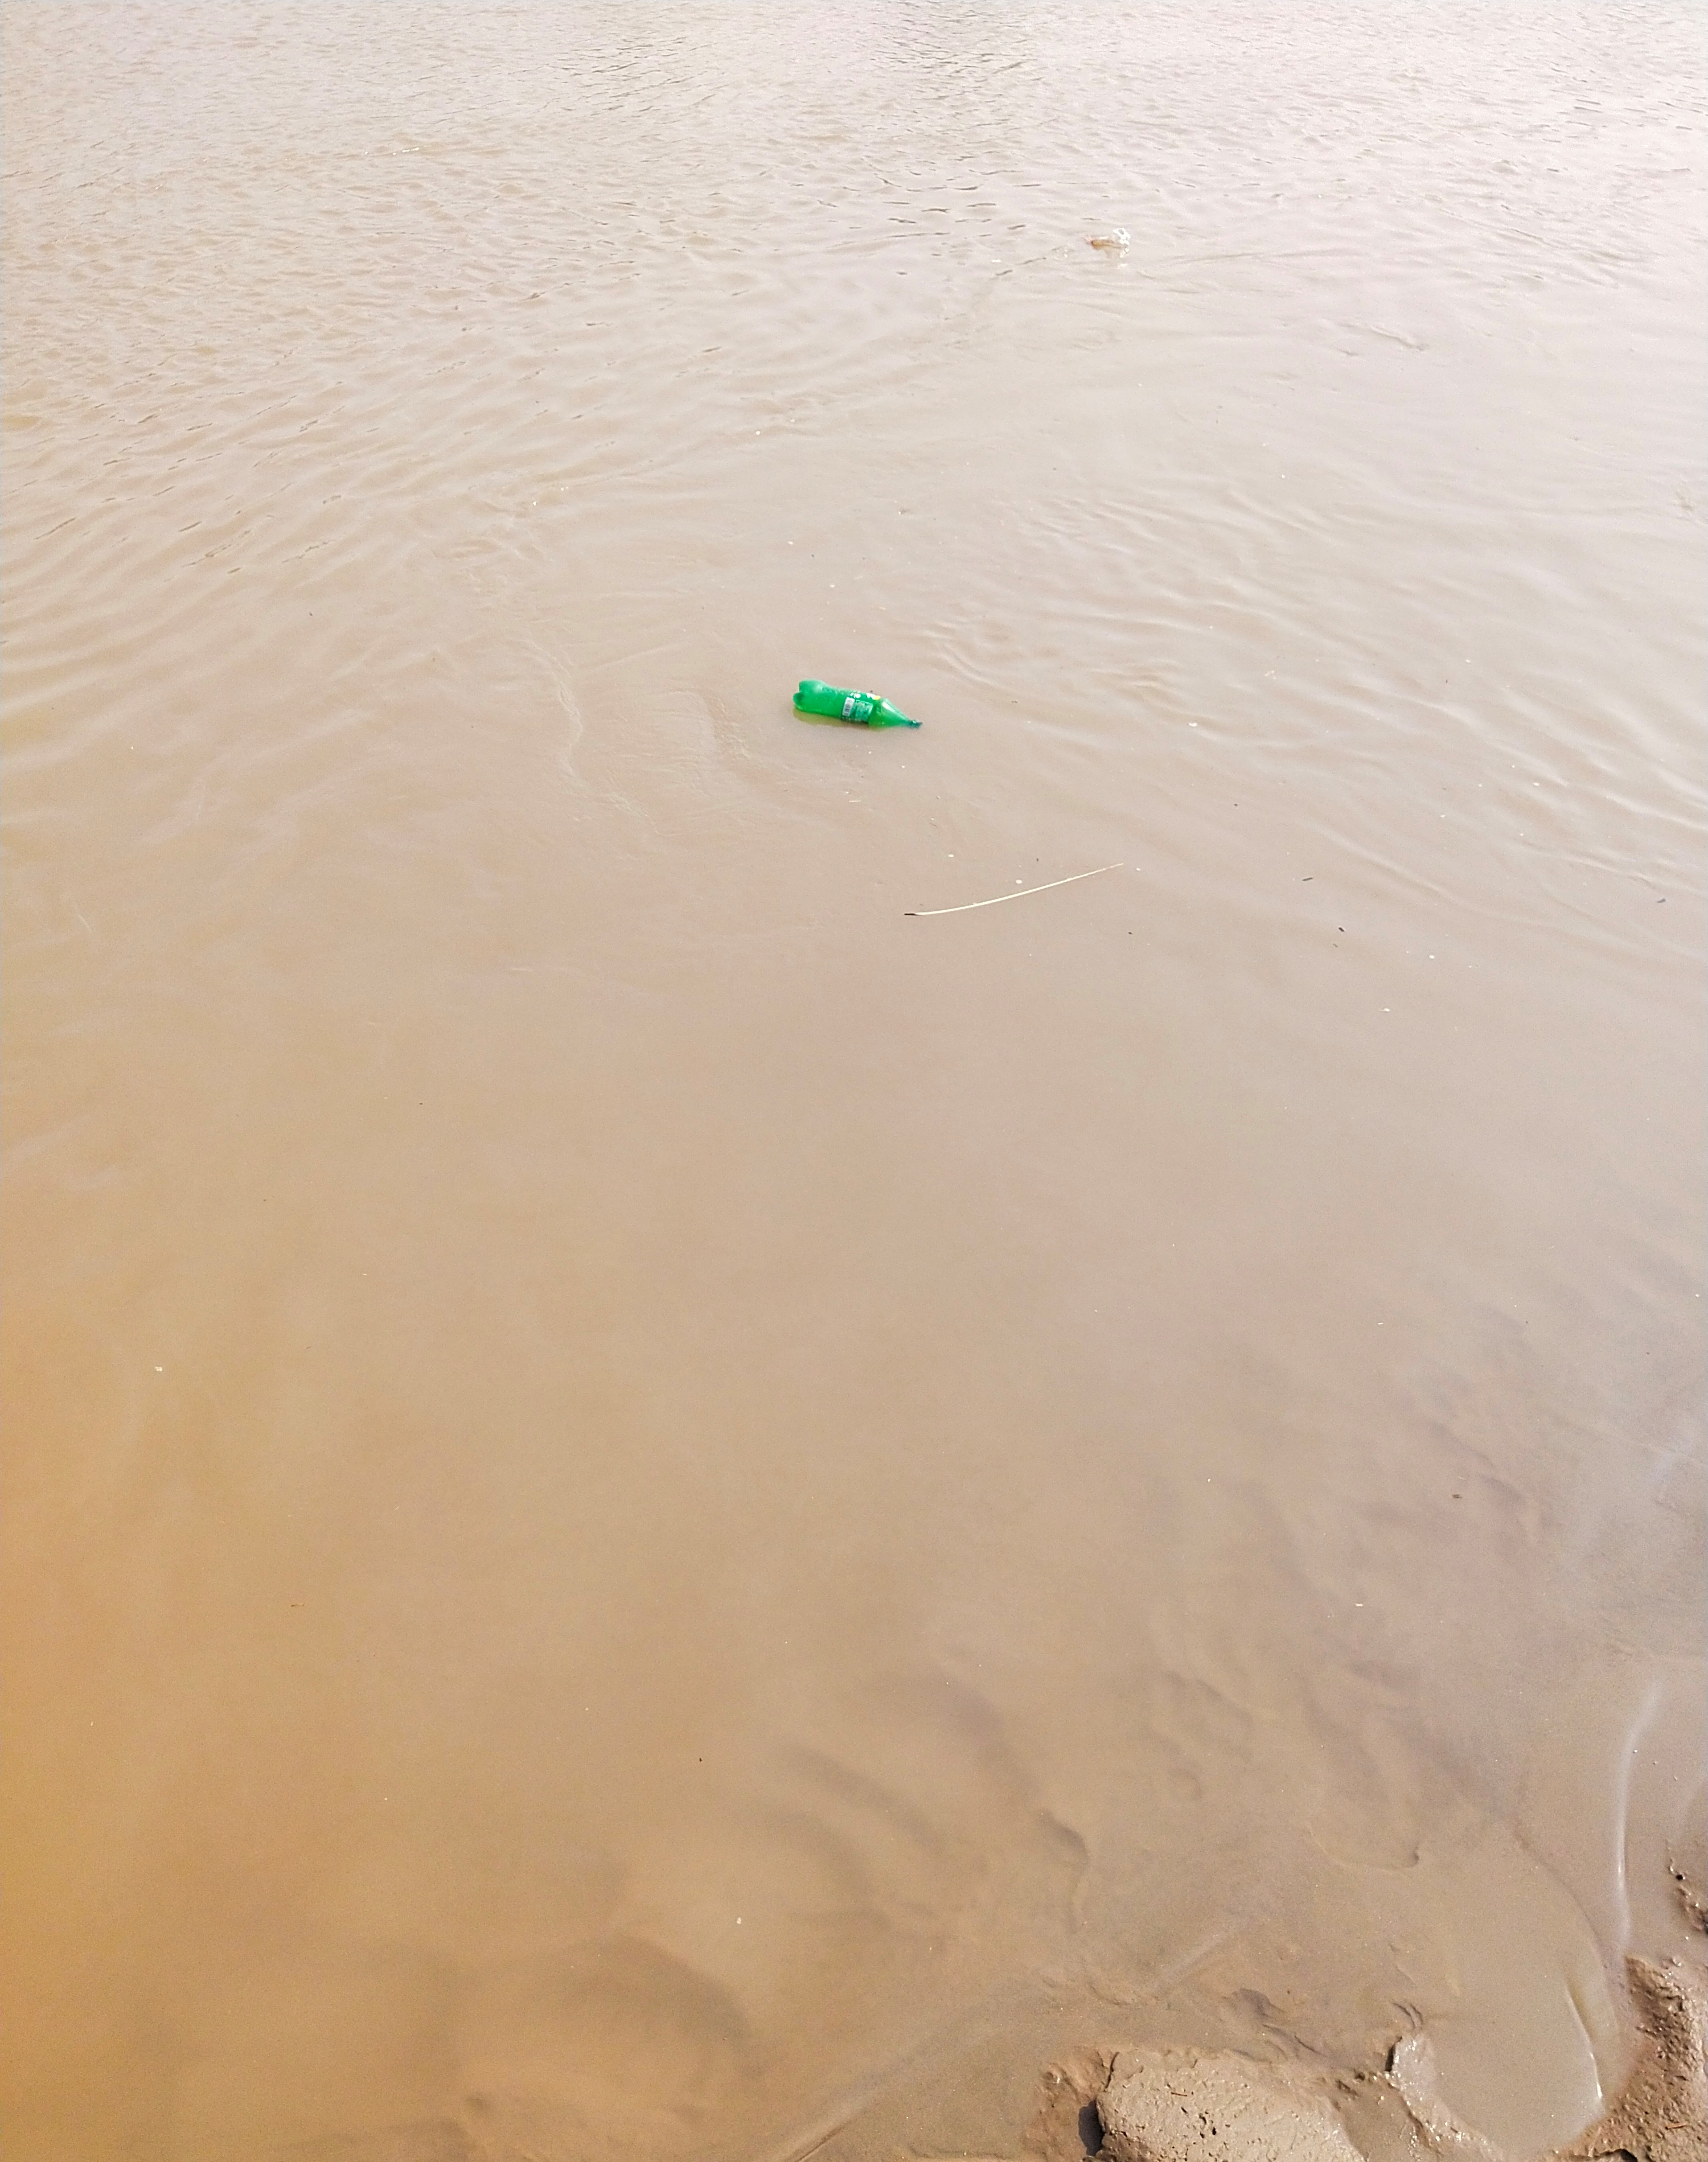Plastic Bottle: (793, 679, 920, 728), (1090, 226, 1129, 246)
